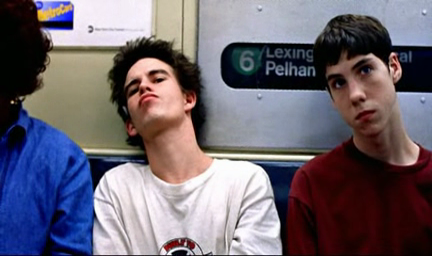face: (326, 52, 389, 137), (124, 63, 175, 130)
mcu: (1, 1, 432, 256)
person: (92, 35, 283, 256), (284, 14, 432, 256), (1, 1, 94, 256)
